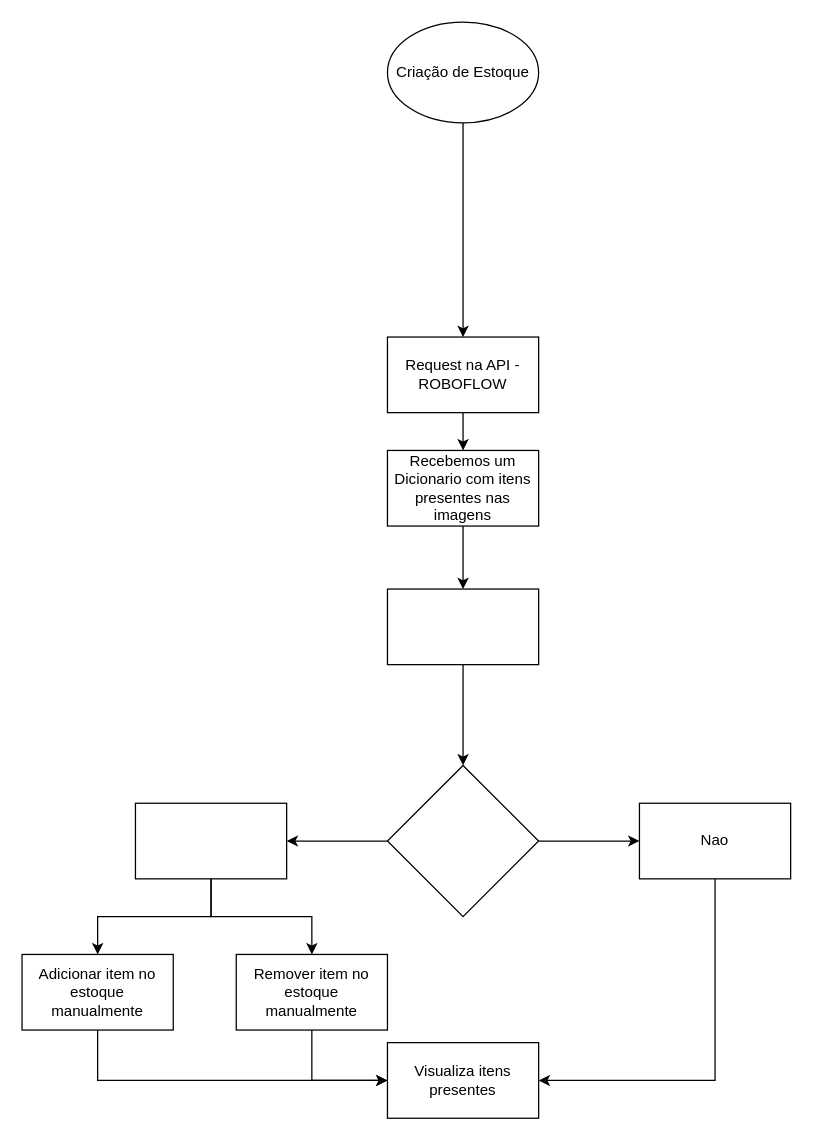
This 813x1140 diagram has some shape labels left out. The shapes that lost their labels are listed below. From the top down, each one's box as (x1, y1, x2, y2) in pixels, then its label:
(386, 588, 539, 665): Transforma esse dicionário em banco de dados
(134, 802, 287, 879): Sim
(386, 764, 539, 917): Deseja modificar o Estoque?
